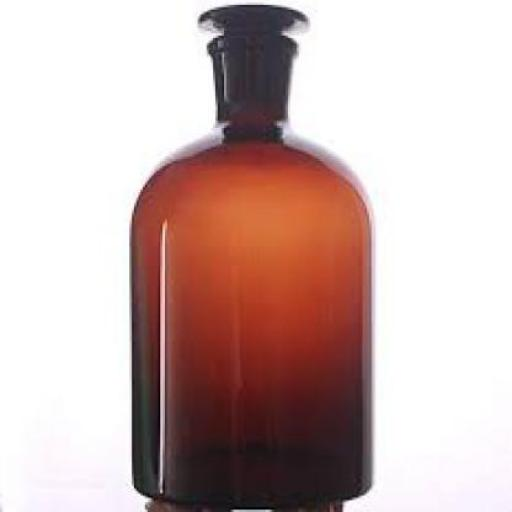glass: (127, 2, 371, 510)
